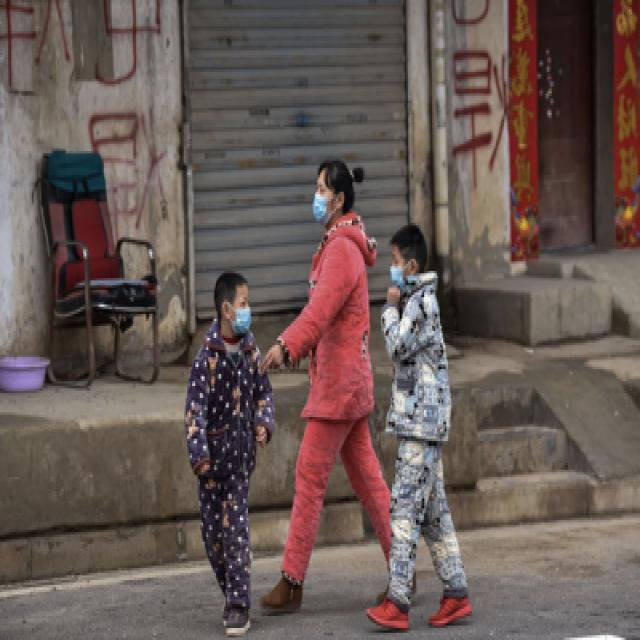mask: (232, 290, 253, 336), (314, 178, 334, 225), (390, 252, 408, 292)
